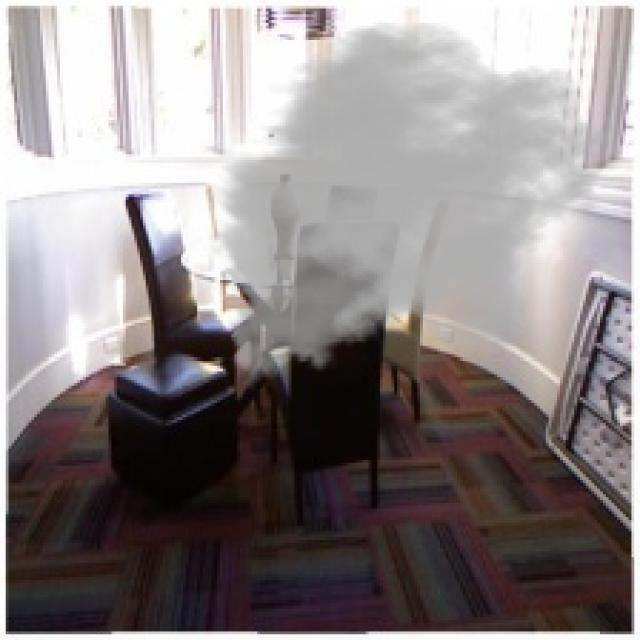Smoke: (205, 19, 618, 394)
